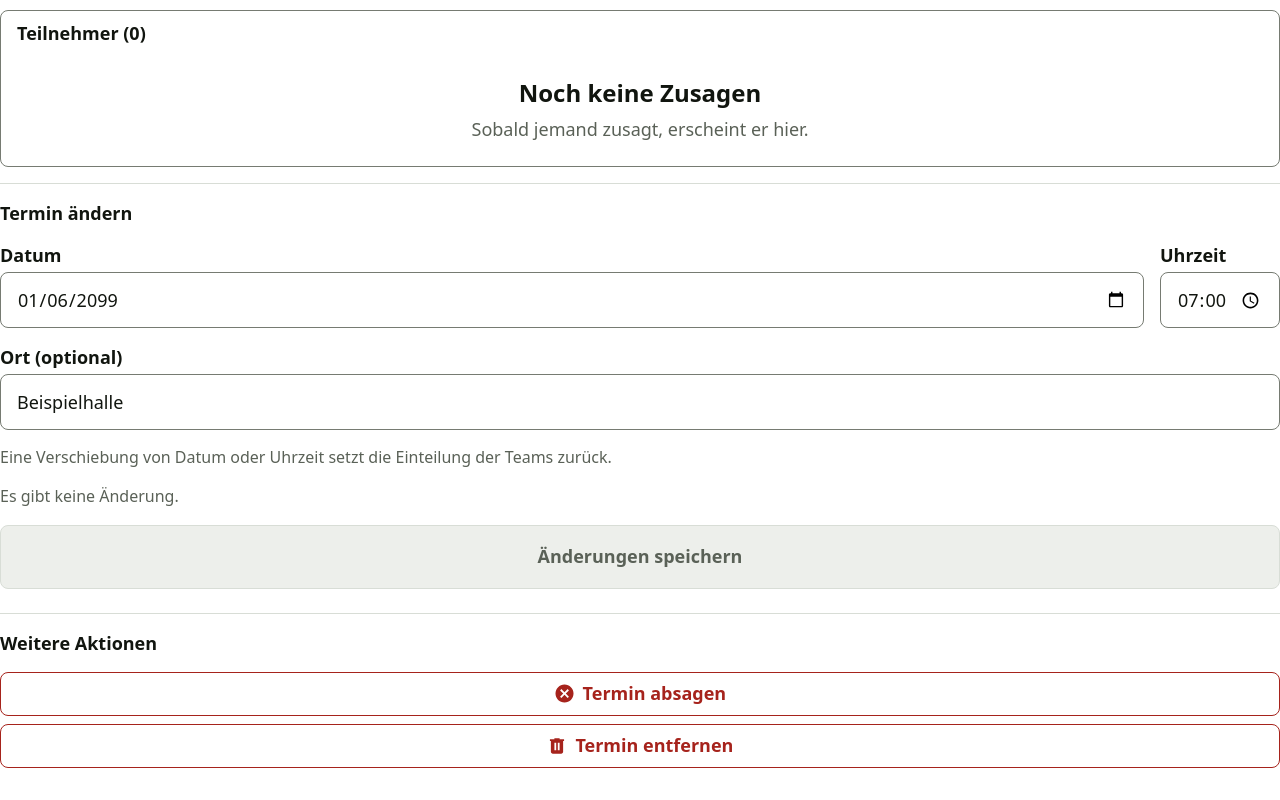
AdminTerminDetail – Weitere Aktionen › ein Fehler beim Absagen bleibt im Dialog sichtbar, der Dialog bleibt offen
(page scrolled)
Click the button with test id "admin-termin-absagen" at [640, 694], box [0,672,1279,716]
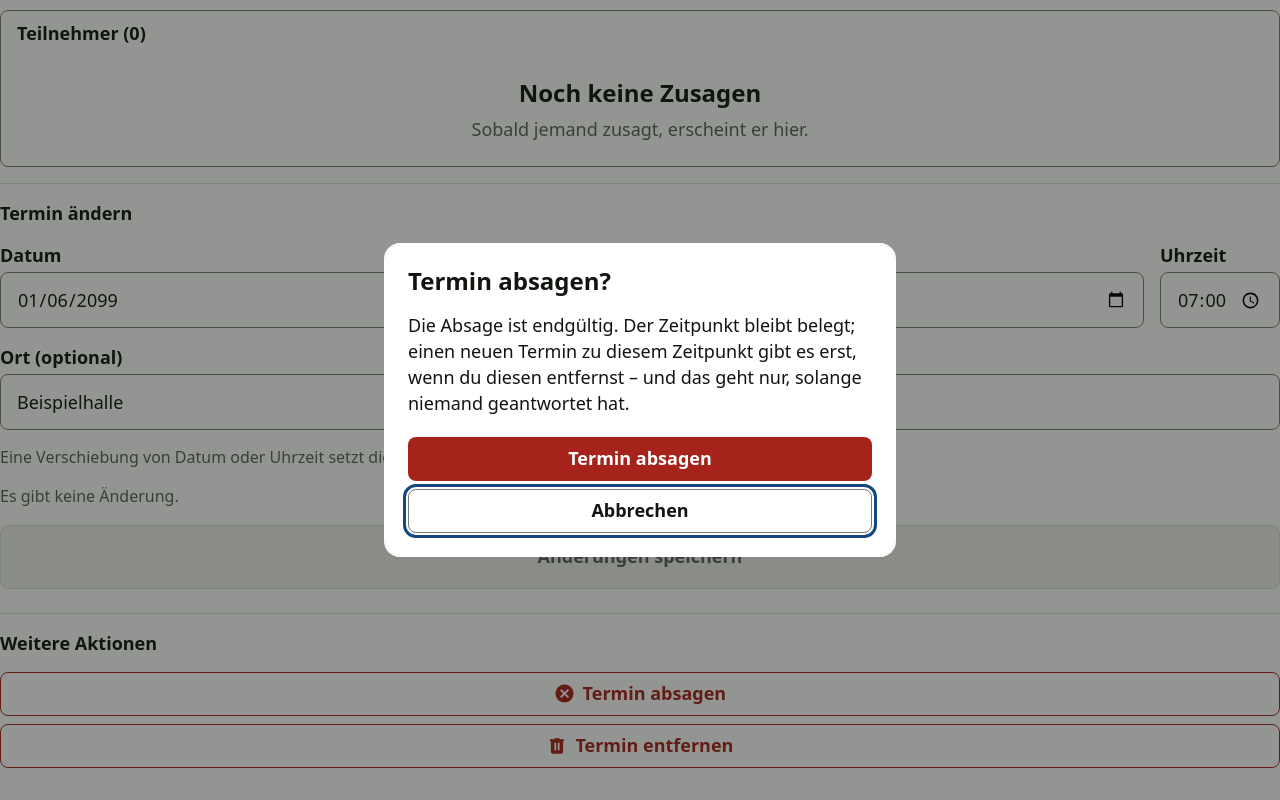
Click the button with test id "admin-absagen-dialog-bestaetigen" at [640, 459], box [408,437,872,481]
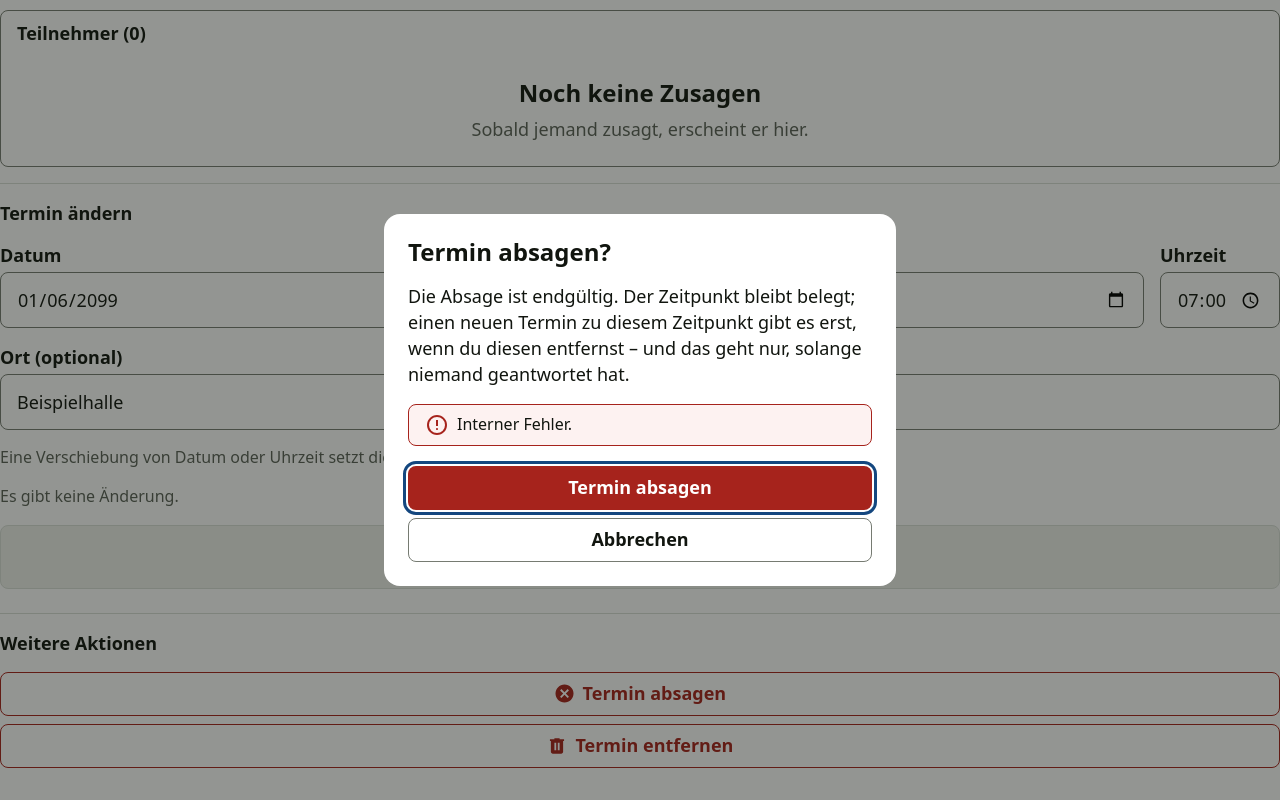
Expected: the dialog with test id "admin-absagen-dialog" is shown, [384,214,896,586]
Expected: the message "Interner Fehler." is shown, [408,404,872,446]
